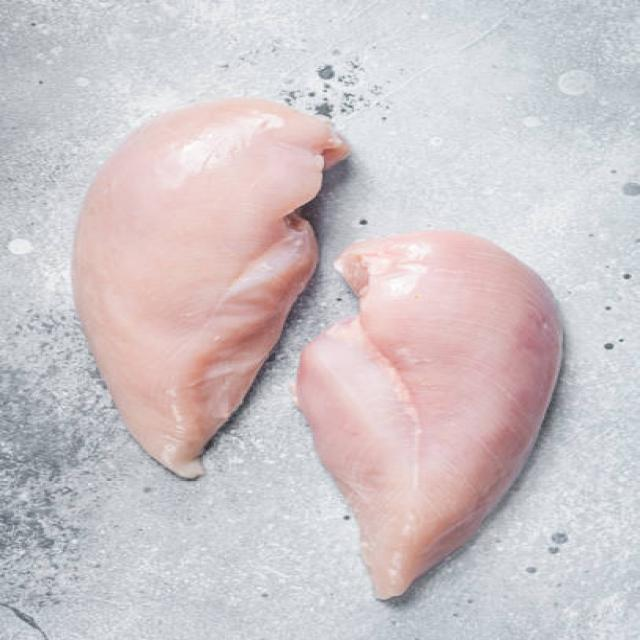Chicken: (49, 65, 301, 428), (314, 228, 560, 596)
